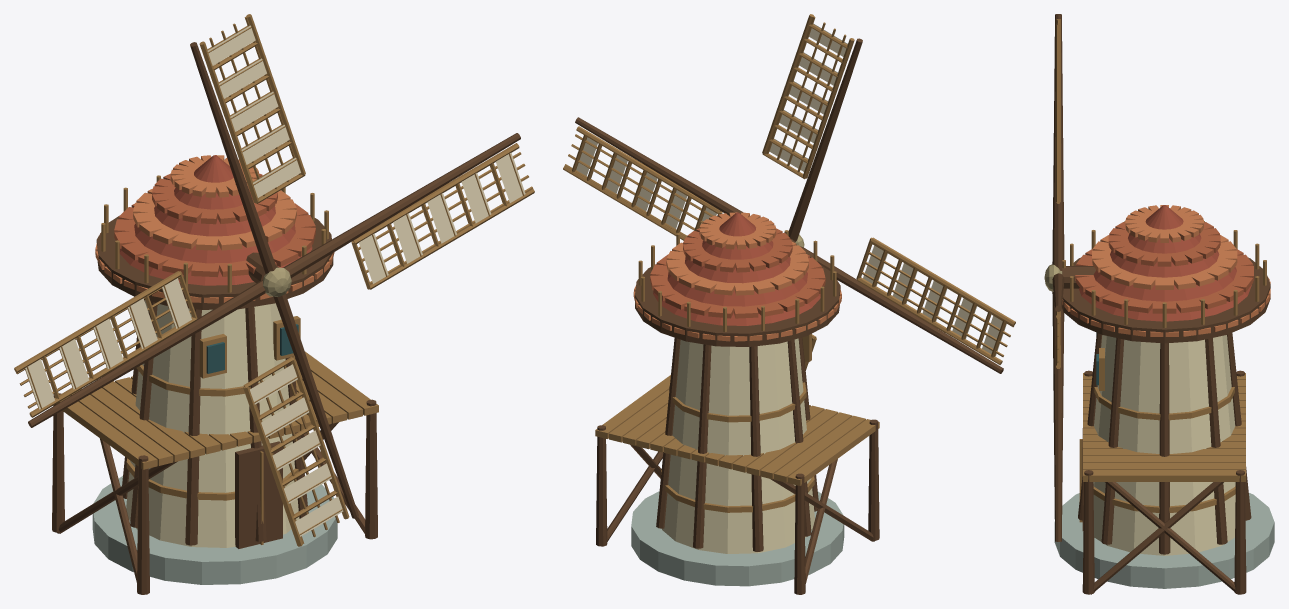
Rendered from port_windmill.glb.
3 renders of one model, left to right at view 1: azimuth 30°, elevation 25°; view 2: azimuth 150°, elevation 25°; view 3: azimuth 270°, elevation 25°, orthographic. The views are drawn at different scales.
Parts seen in each view (by area): view 1: port_windmill; view 2: port_windmill; view 3: port_windmill.
Boxes of the visible parts, <box> form: port_windmill: <box>14,14,534,594</box>; port_windmill: <box>563,14,1015,594</box>; port_windmill: <box>1044,14,1274,594</box>.
Size of the model in its own units: 14.11 by 14.83 by 6.07.
